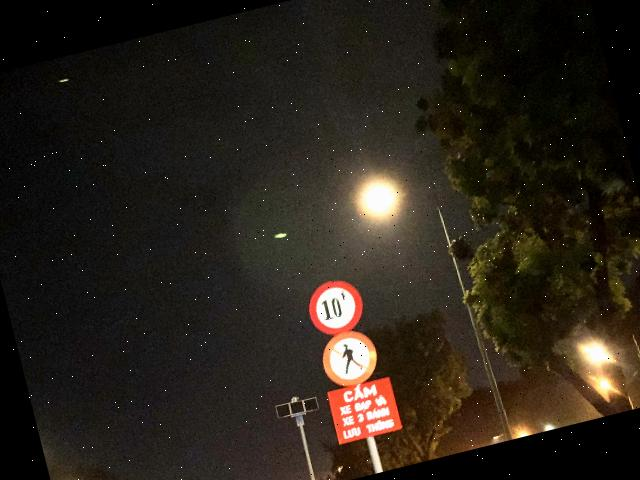cam-nguoi-di-bo: (316, 325, 382, 392)
han-che-trong-luong-xe: (302, 275, 368, 339)
